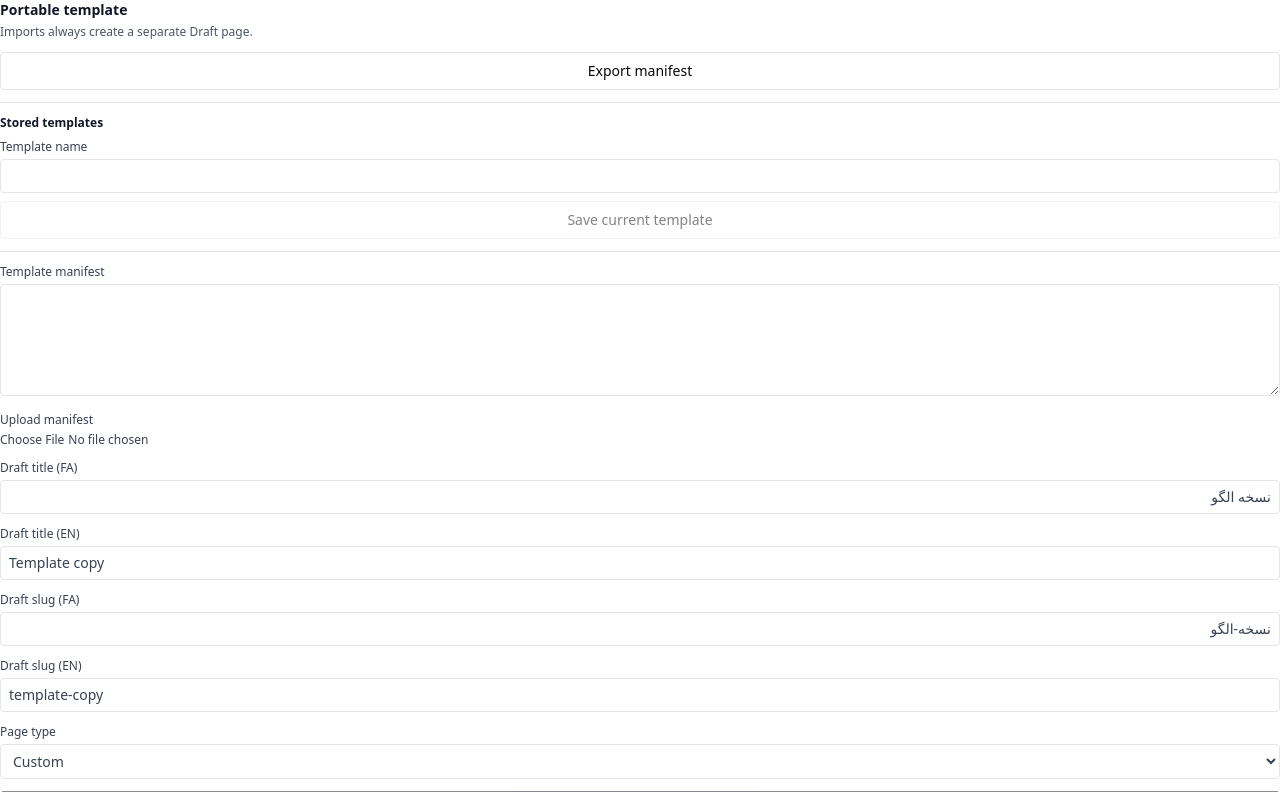
it: TemplatePanel › keeps distinct templates with matching metadata when the initial library resolves late
This screenshot has width=1280, height=792.
Type "Shared template" into the field labelled "Template name".
click(640, 176); type("Shared template")  # box top-left (0, 159), bottom-right (1279, 193)
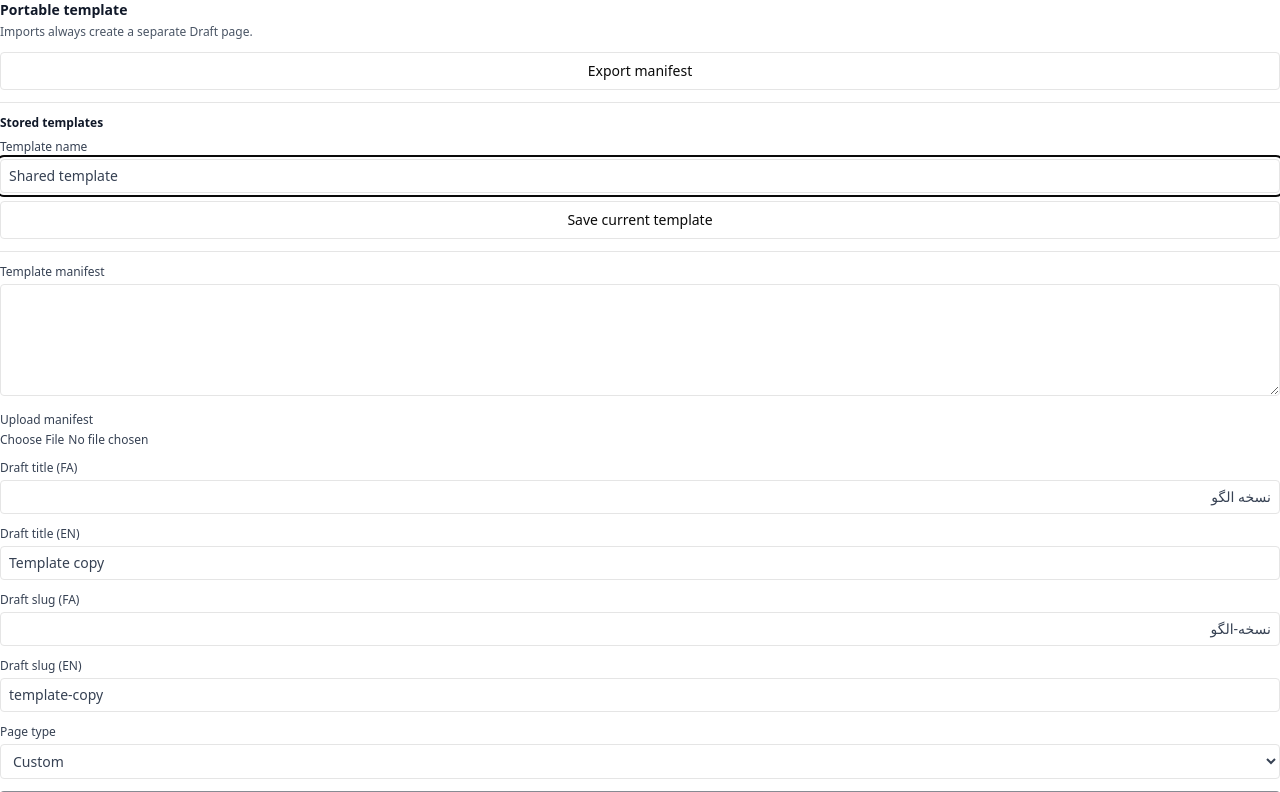
Click the button "Save current template".
click(640, 220)  # box top-left (0, 201), bottom-right (1279, 239)
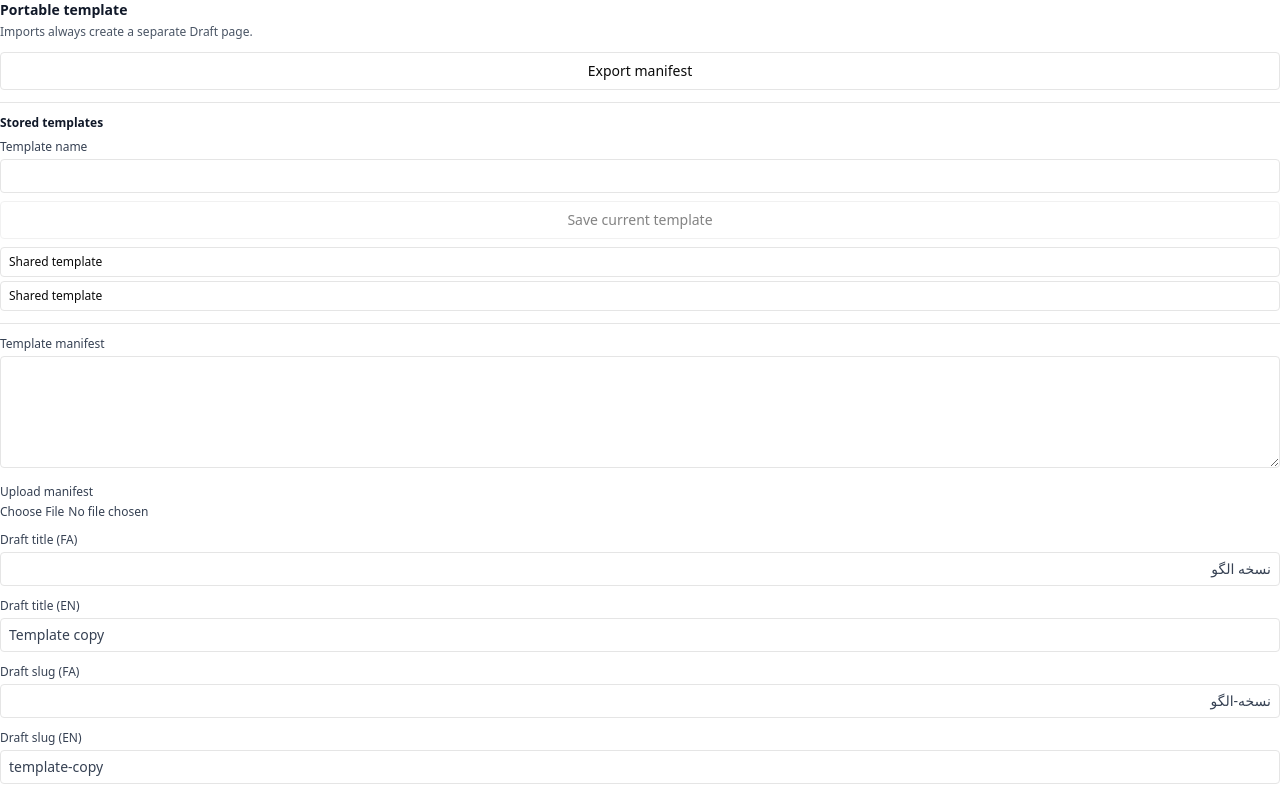
Now the 1st button "Shared template" is shown, box top-left (0, 247), bottom-right (1279, 277)
Now the number of buttons "Shared template" is 2, box top-left (0, 247), bottom-right (1279, 277); top-left (0, 281), bottom-right (1279, 311)
